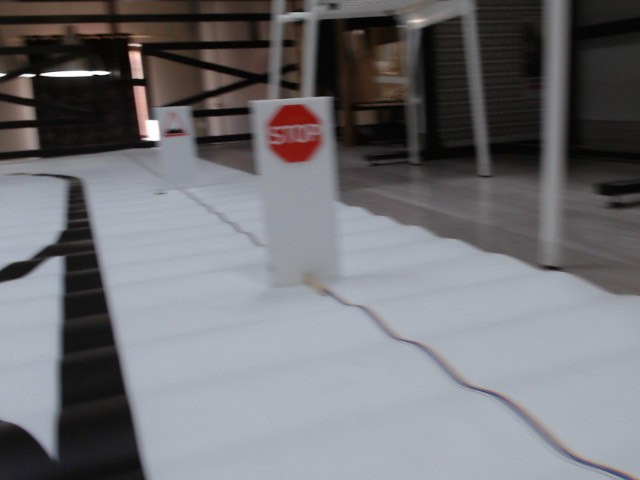Nerov: (158, 110, 189, 140)
Stop: (265, 105, 325, 162)
